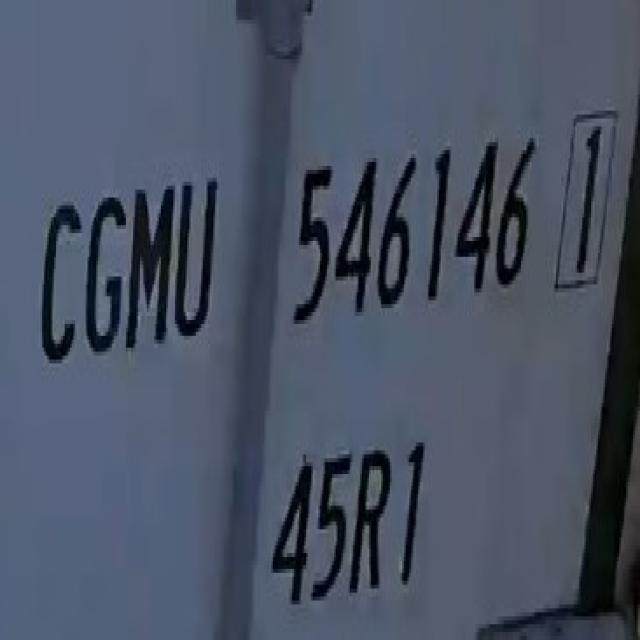dv: (552, 102, 620, 313)
owner: (32, 170, 226, 387)
serial: (291, 113, 539, 341)
size: (259, 410, 432, 623)
